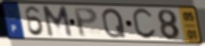6: (24, 5, 46, 38)
8: (157, 8, 182, 42)
C: (131, 7, 158, 42)
M: (41, 5, 75, 39)
P: (72, 7, 99, 39)
Q: (101, 7, 128, 40)
